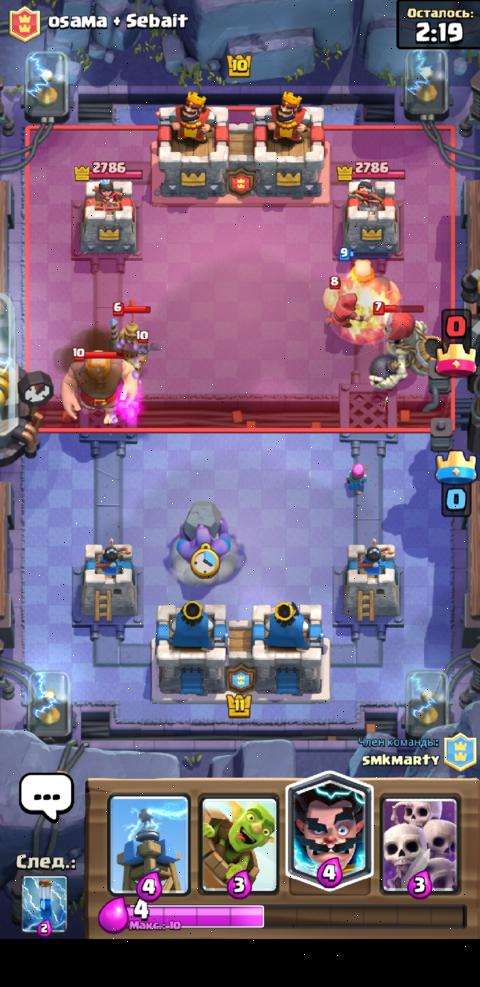EBat: (124, 330, 163, 355)
EGiant: (62, 351, 137, 423)
EGiantSkeleton: (370, 312, 443, 390)
EKingTower: (154, 92, 228, 200), (253, 92, 324, 199)
EPrince: (109, 300, 149, 353)
EWizard: (326, 290, 356, 333)
EnemyPrincessTower: (338, 163, 404, 258), (72, 170, 142, 258)
OArcher: (345, 462, 369, 495)
OBowler: (174, 503, 234, 577)
OGiant: (325, 249, 400, 311)
OwnKingTower: (152, 601, 228, 700), (251, 602, 329, 698)
OwnPrincessTower: (334, 540, 400, 623), (80, 539, 136, 622)
